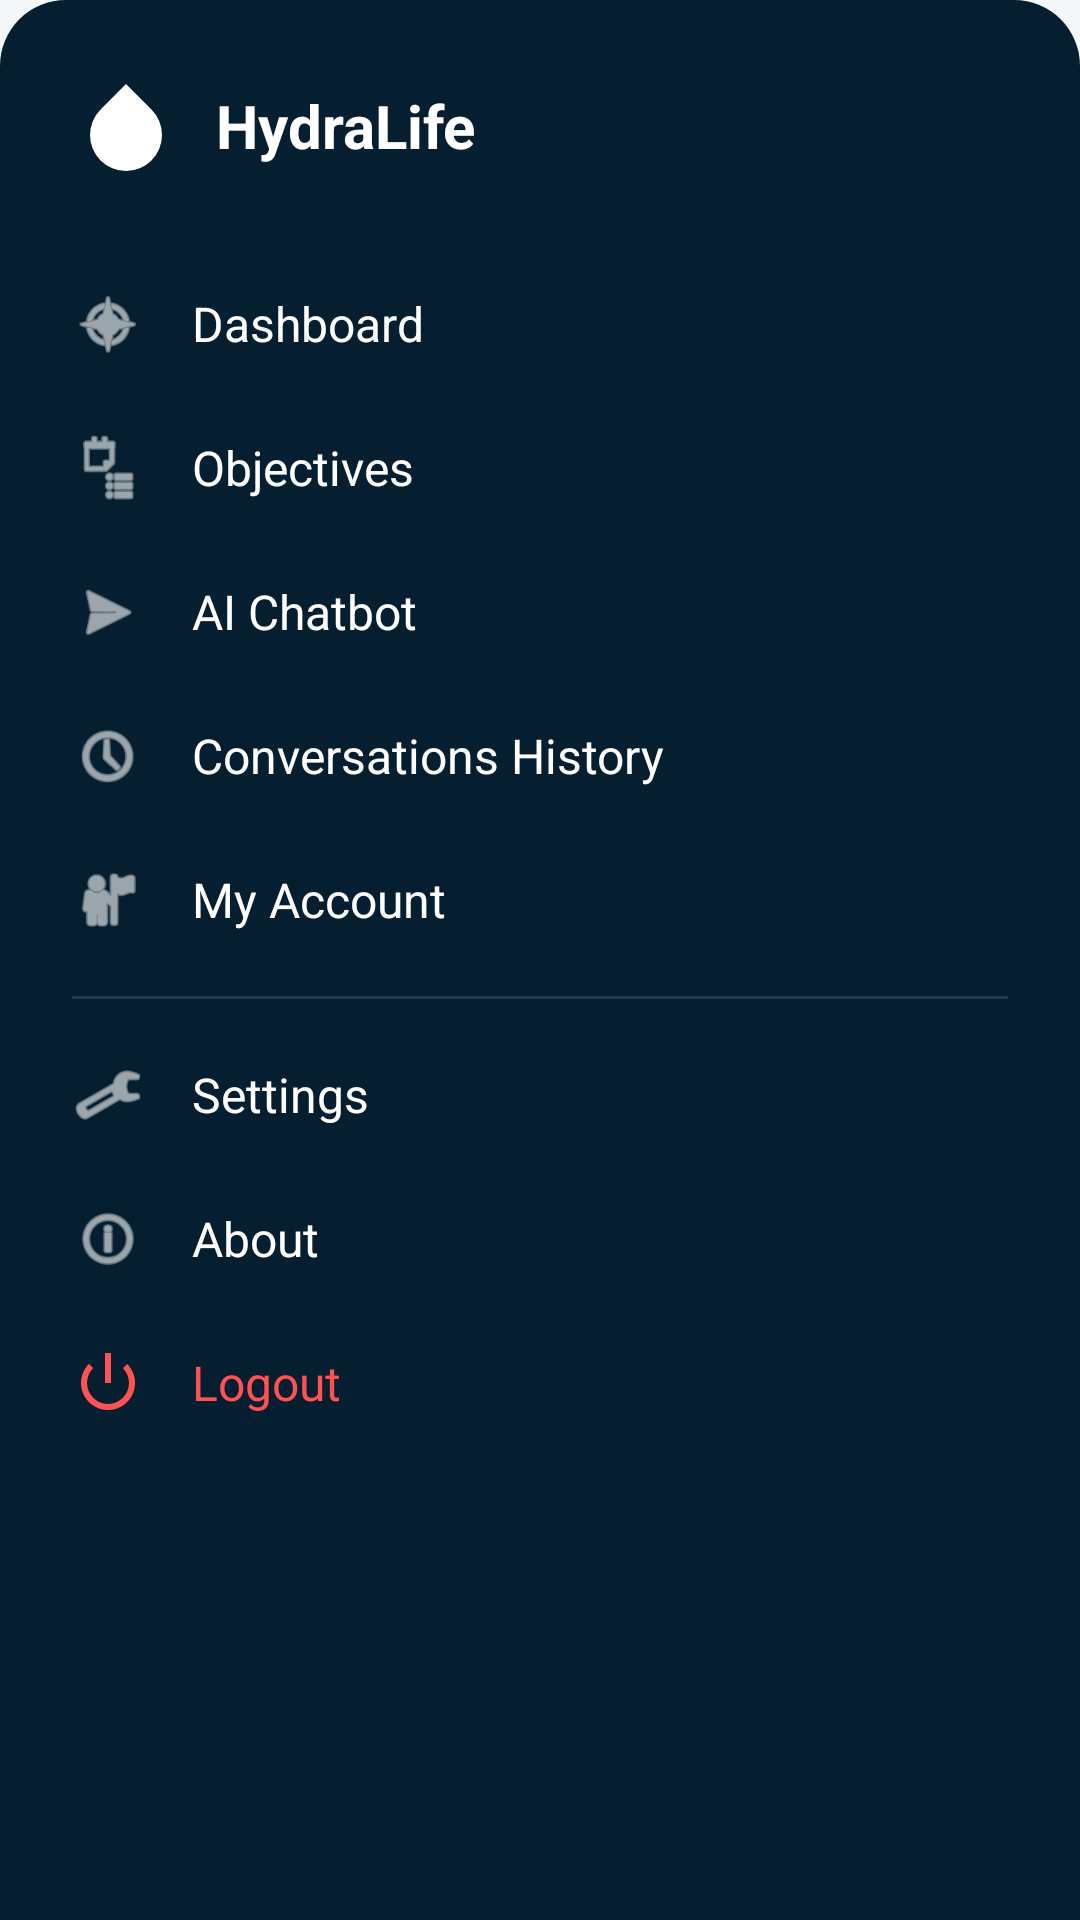

Icon bounding boxes for this 1080 × 1920 phone screenshot, format box(x1, y1, x2, y2):
water drop: box(90, 84, 162, 171)
